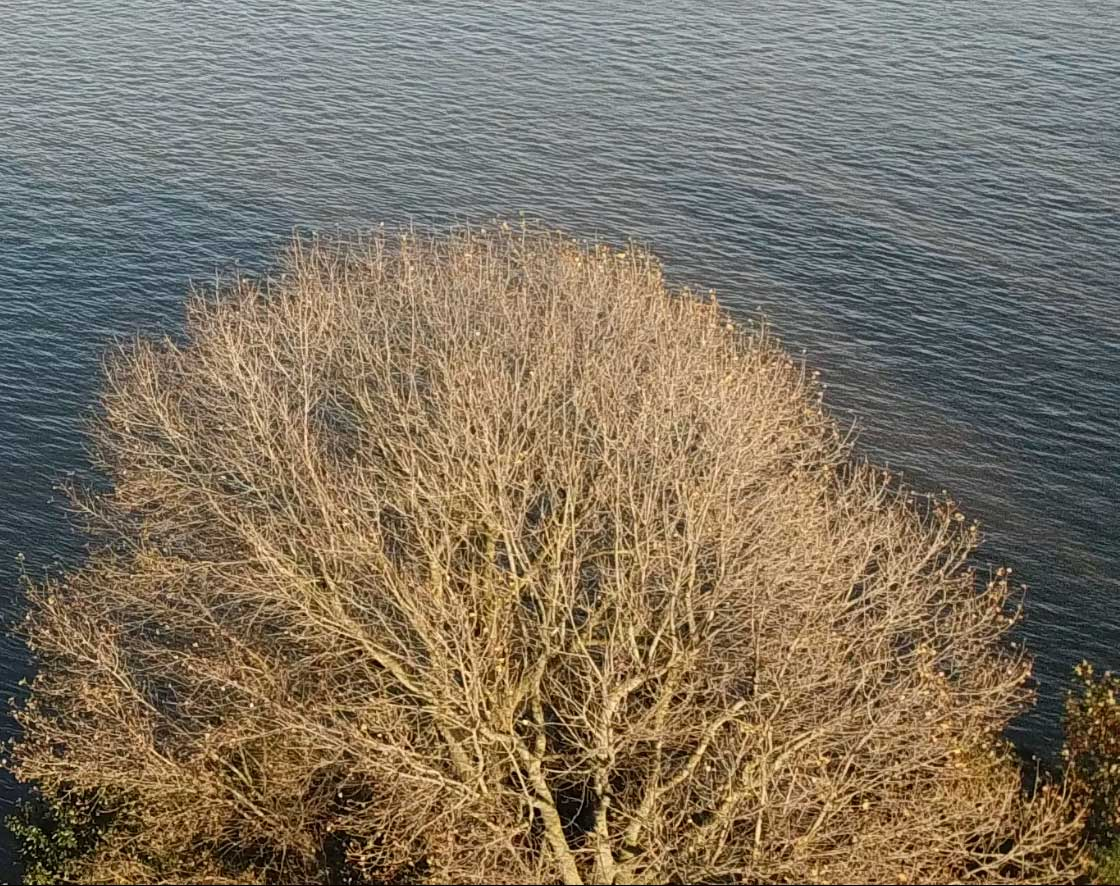trees: (6, 188, 1084, 885)
